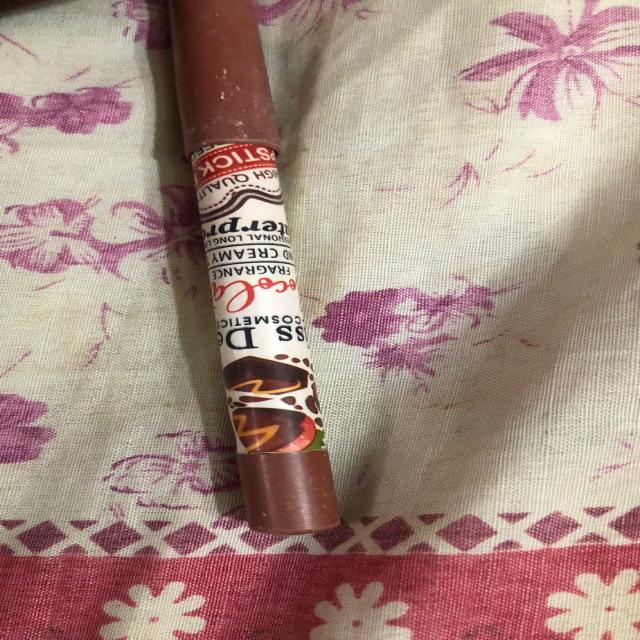eye liner: (143, 0, 374, 540)
